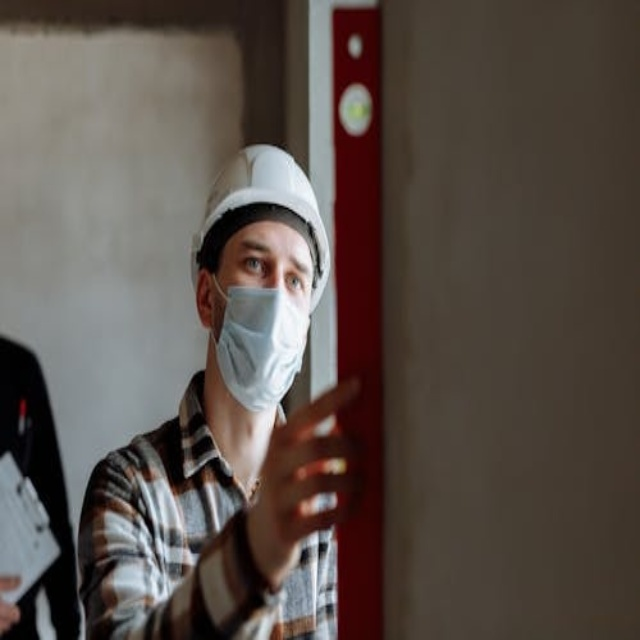Mascara: (210, 270, 309, 412)
Sin_gafas: (232, 236, 316, 294)
Sin_guantes: (238, 371, 369, 592)
